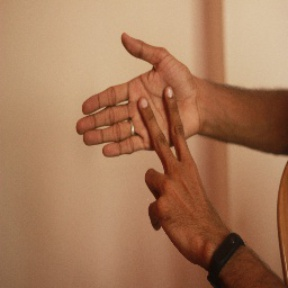N: (71, 33, 219, 225)
